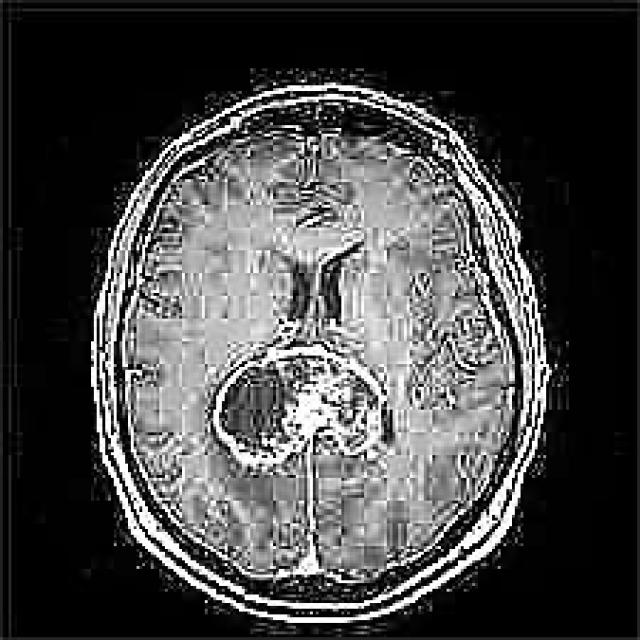Tumor-Cell: (198, 334, 393, 472)
